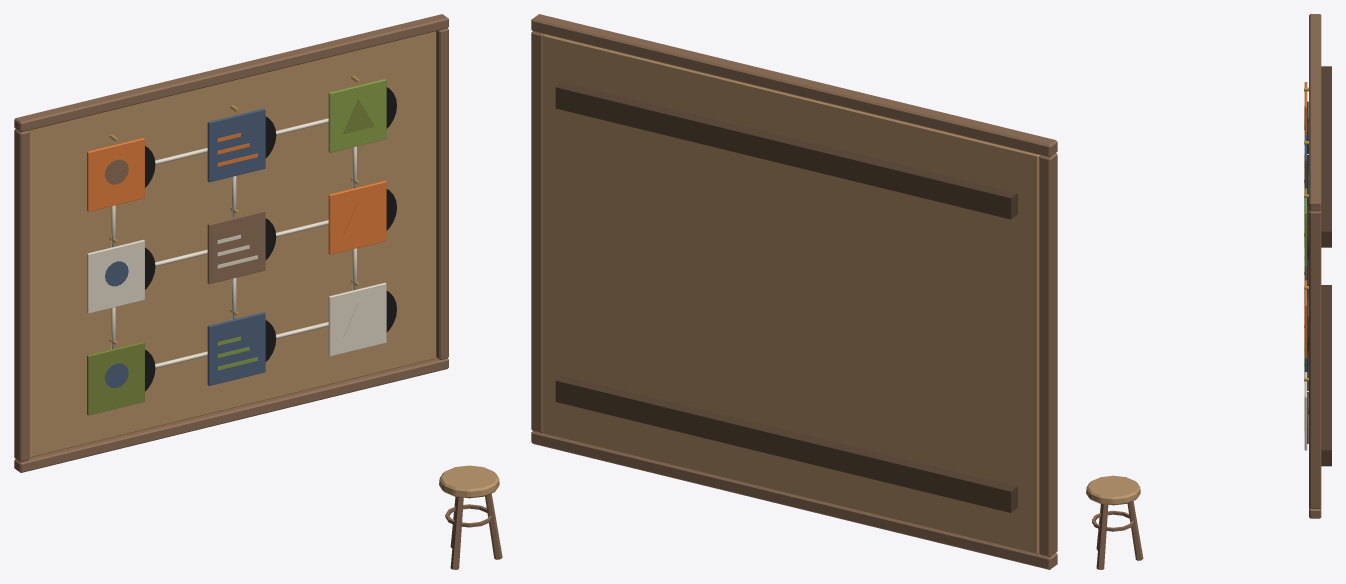
3 views of the same model, side by side, from view 1: azimuth 30°, elevation 25°; view 2: azimuth 150°, elevation 25°; view 3: azimuth 270°, elevation 25° (orthographic). The views are drawn at different scales.
Visible parts, largest first — view 1: body, record_7, record_4, record_1, record_5, record_8, record_2, record_6, record_0, record_3, stool; view 2: body; view 3: body, stool, record_2, record_5, record_8.
Boxes of the visible parts, left/top/right/bottom form: body: left=14, top=14, right=448, bottom=472; record_7: left=207, top=312, right=276, bottom=385; record_4: left=207, top=210, right=276, bottom=284; record_1: left=207, top=108, right=276, bottom=182; record_5: left=328, top=181, right=396, bottom=254; record_8: left=328, top=282, right=396, bottom=356; record_2: left=328, top=79, right=396, bottom=152; record_6: left=87, top=341, right=155, bottom=415; record_0: left=87, top=138, right=155, bottom=211; record_3: left=87, top=240, right=155, bottom=313; stool: left=439, top=465, right=502, bottom=569; body: left=531, top=14, right=1057, bottom=569; body: left=1304, top=14, right=1331, bottom=518; stool: left=1086, top=475, right=1143, bottom=569; record_2: left=1304, top=188, right=1308, bottom=266; record_5: left=1304, top=280, right=1308, bottom=358; record_8: left=1304, top=372, right=1308, bottom=450.
Bounding box in the file's own units: 2.56 × 2.5 × 1.41.
